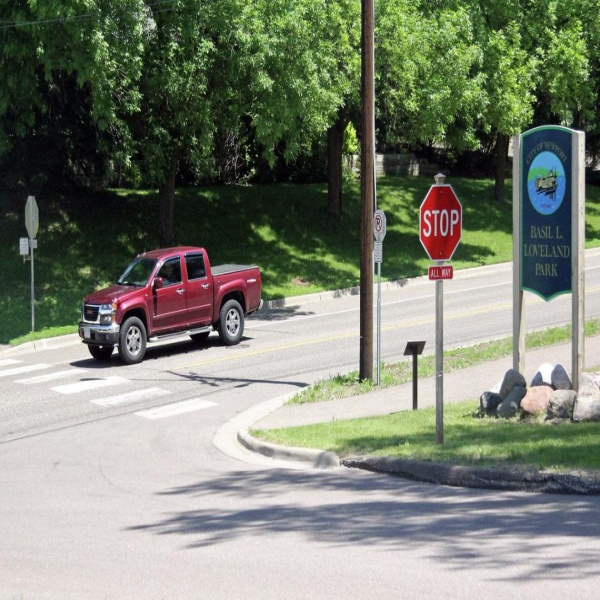stop: (418, 183, 465, 263)
